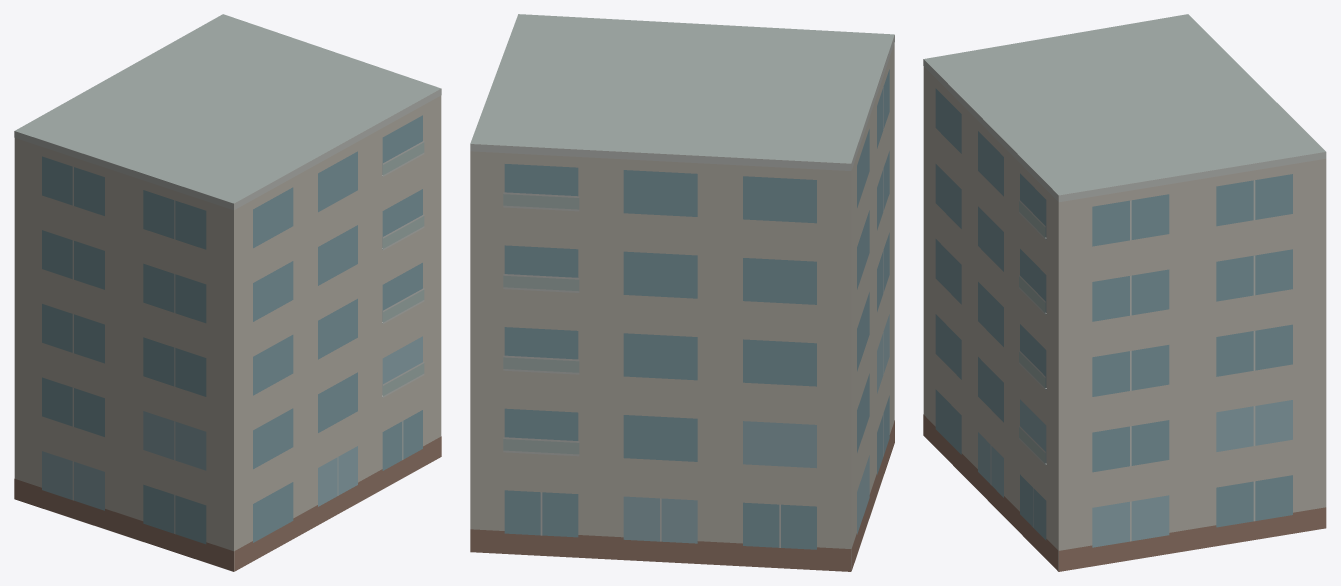
The model's file is survey-upis-32843001.glb.
The picture shows the model from 3 angles, left to right: view 1: azimuth 30°, elevation 25°; view 2: azimuth 150°, elevation 25°; view 3: azimuth 270°, elevation 25°; orthographic projection. The views are drawn at different scales.
Parts seen in each view (by area): view 1: survey-upis-32843001.tmp; view 2: survey-upis-32843001.tmp; view 3: survey-upis-32843001.tmp.
Boxes of the visible parts, x1=… form: survey-upis-32843001.tmp: x1=14, y1=14, x2=441, y2=571; survey-upis-32843001.tmp: x1=470, y1=14, x2=894, y2=571; survey-upis-32843001.tmp: x1=923, y1=14, x2=1326, y2=571.
Size of the model in its own units: 13.86 by 13.4 by 13.01.
